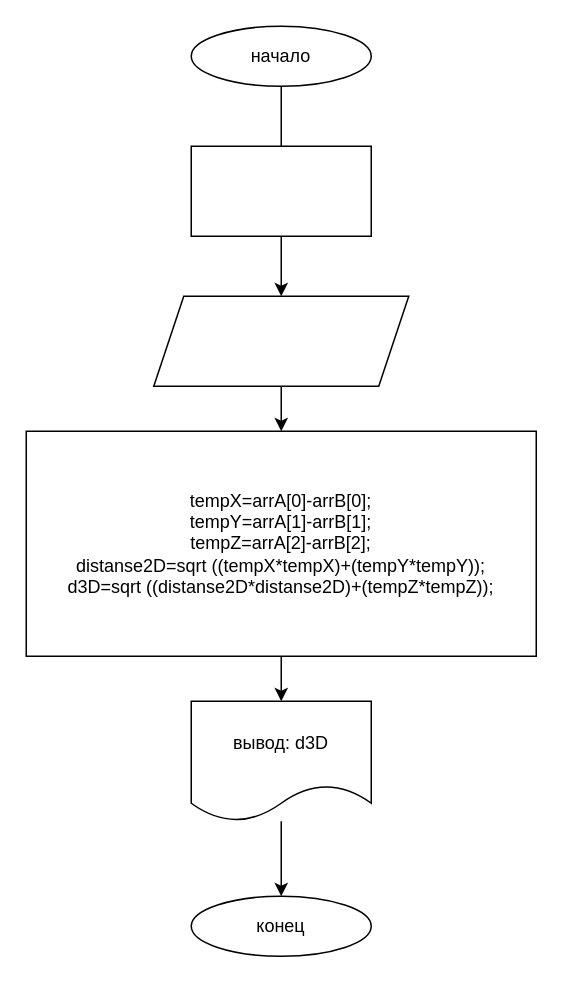
Image size: 563x983. Some labels were removed from this diagram. Here are the shapes that lost their labels. From the top down, the centre of each, then its label:
At [280,190]: "arrA[3] arrB[3]".
At [280,340]: "ввод:arrA и arrB".
